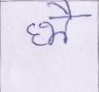ai_matra: (47, 1, 76, 15)
